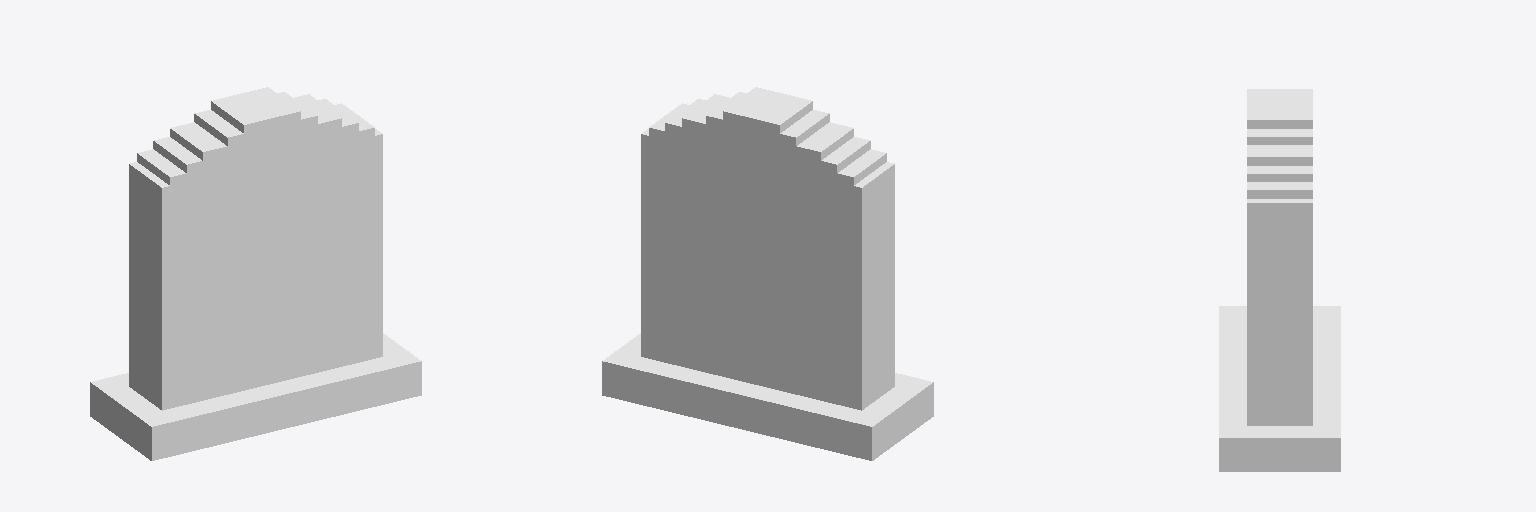
File: tumbaJheal.obj
The picture shows the model from 3 angles: view 1: azimuth 30°, elevation 25°; view 2: azimuth 150°, elevation 25°; view 3: azimuth 270°, elevation 25°; orthographic projection.
Parts seen in each view (by area): view 1: object 1; view 2: object 1; view 3: object 1.
Part boxes in pixels (bbox=[...]): object 1: bbox=[90, 87, 421, 460]; object 1: bbox=[602, 87, 933, 460]; object 1: bbox=[1219, 89, 1340, 471].
Size of the model in its own units: 3.3 by 3.5 by 1.3.